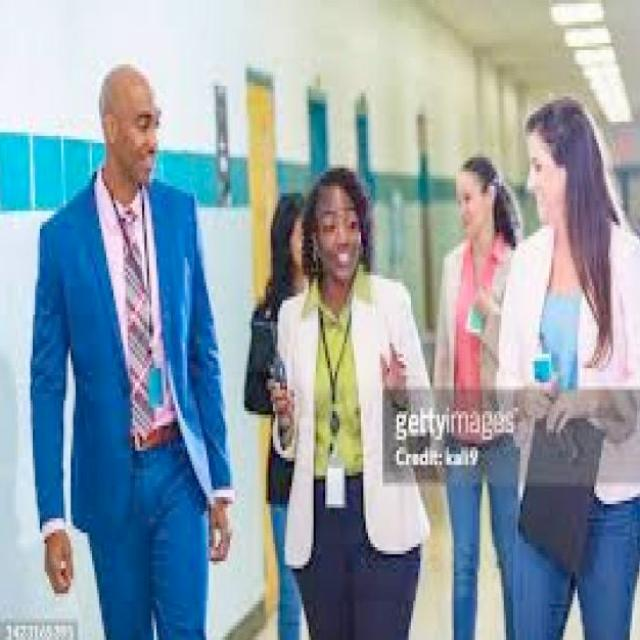ID_card: (321, 330, 350, 502)
